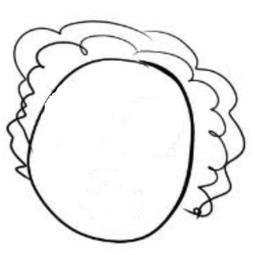face: (28, 94, 197, 245)
